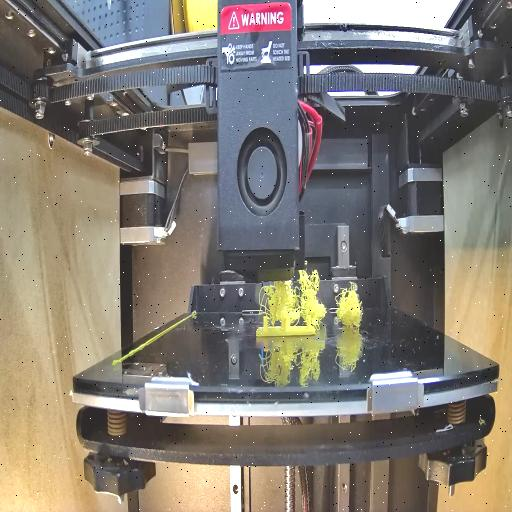spaghetti: (258, 267, 326, 325), (337, 288, 369, 330)
